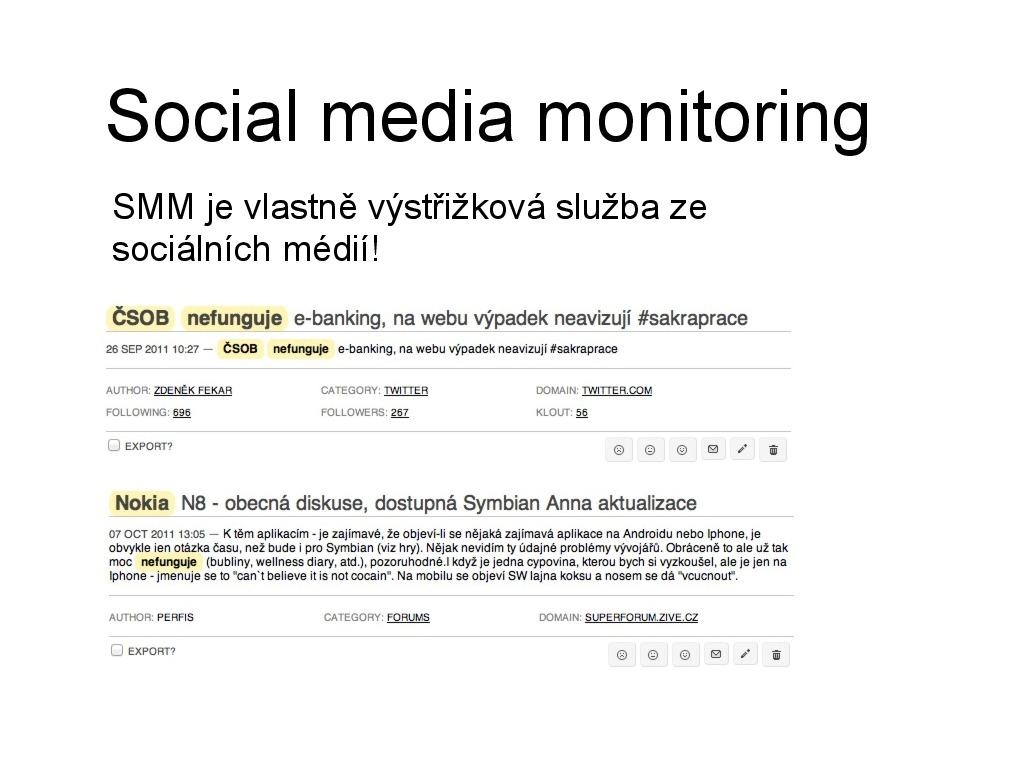paragraph: (93, 180, 917, 711)
title: (99, 65, 898, 166)
